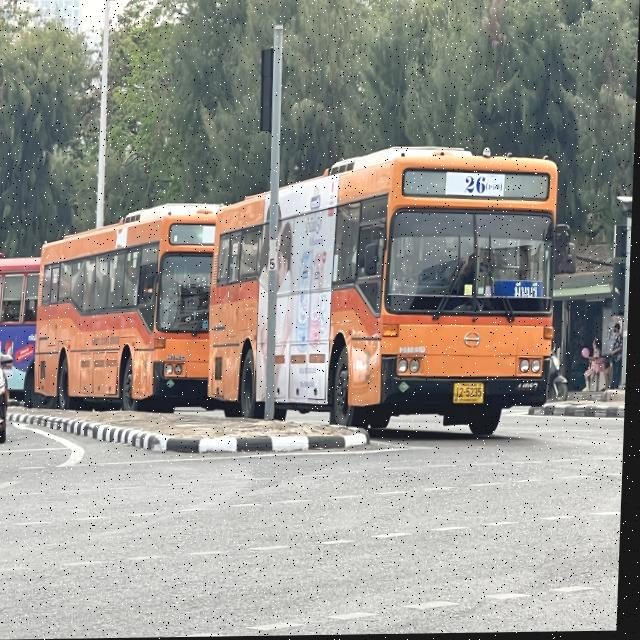BMTA-bus: (205, 137, 568, 446), (33, 195, 225, 420)
Bus-Line-Number: (445, 172, 507, 199)
Destination-Sign-Normal: (496, 280, 548, 301)
